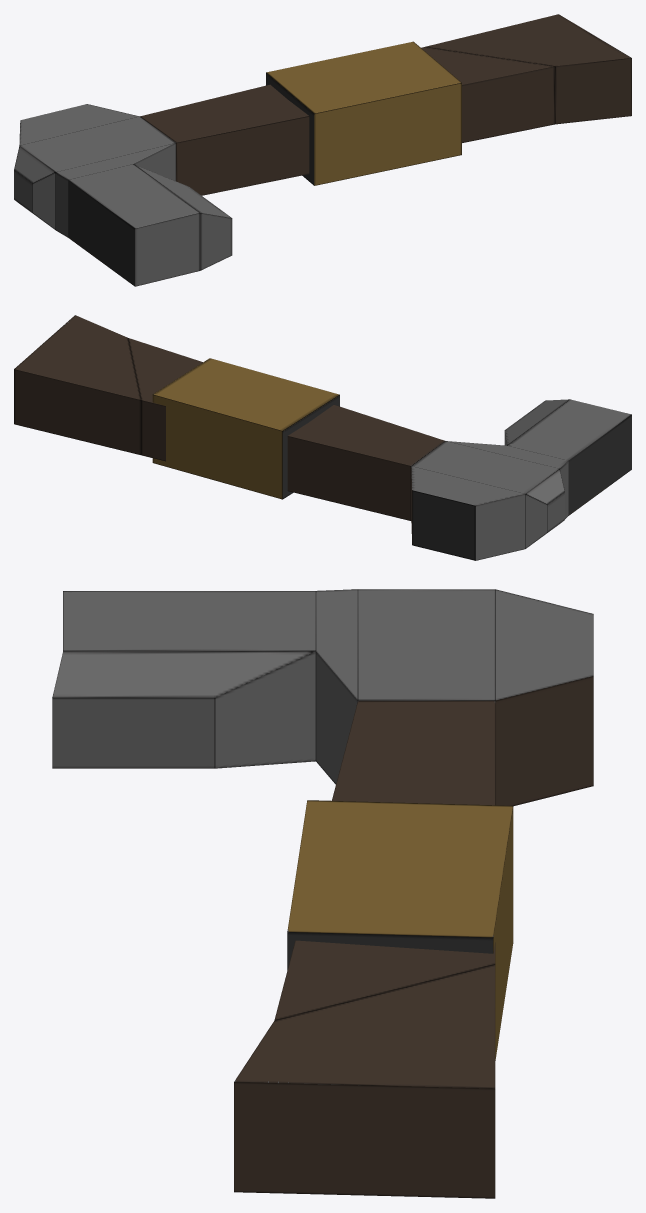
The model's file is Hoe.glb.
3 renders of one model, top to bottom at view 1: azimuth 30°, elevation 25°; view 2: azimuth 150°, elevation 25°; view 3: azimuth 270°, elevation 25°, orthographic. The views are drawn at different scales.
Visible parts, largest first — view 1: Cube; view 2: Cube; view 3: Cube.
Boxes of the visible parts, x1,y1,x2,y2 form: Cube: (14, 14, 631, 286); Cube: (14, 315, 631, 560); Cube: (52, 589, 593, 1198).
Bounding box in the file's own units: 5.46 × 0.6764 × 2.42.
1 material, 1 textured.
